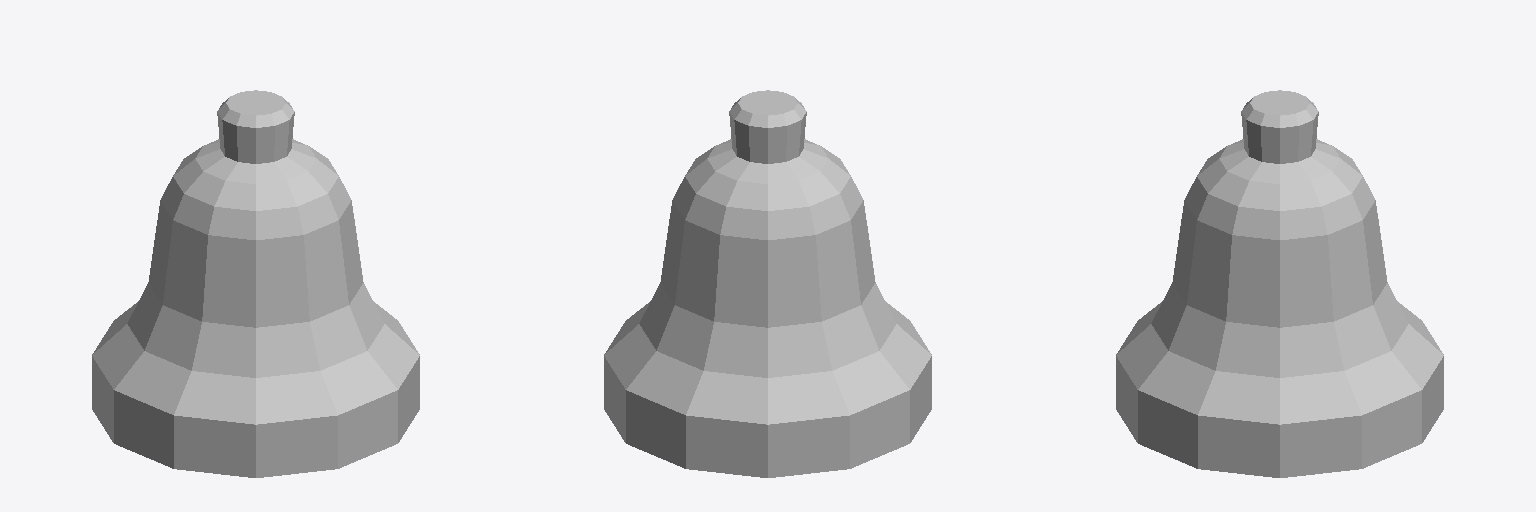
File: bell.obj
3 views of the same model, side by side, from view 1: azimuth 30°, elevation 25°; view 2: azimuth 150°, elevation 25°; view 3: azimuth 270°, elevation 25° (orthographic).
Visible parts, largest first — view 1: bell; view 2: bell; view 3: bell.
Part boxes in pixels (bbox=[...]): bell: bbox=[92, 90, 419, 477]; bell: bbox=[604, 90, 931, 477]; bell: bbox=[1116, 90, 1443, 477].
Bounding box in the file's own units: 0.806 × 0.8288 × 0.806.